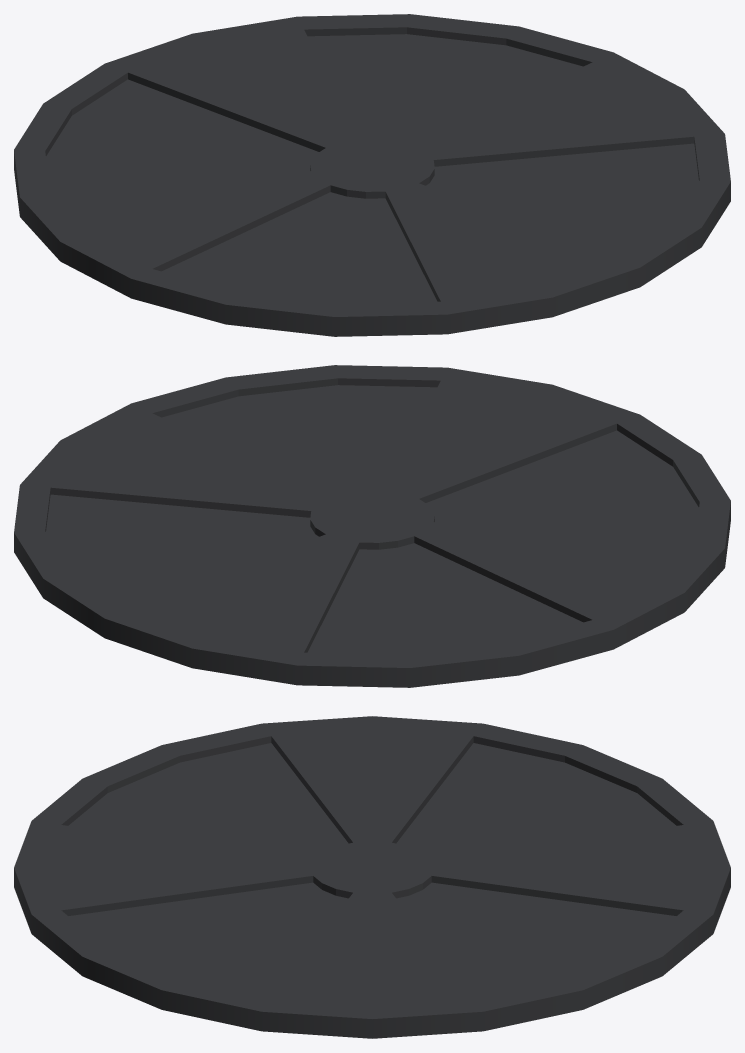
File: Manhole.fbx
3 renders of one model, top to bottom at view 1: azimuth 30°, elevation 25°; view 2: azimuth 150°, elevation 25°; view 3: azimuth 270°, elevation 25°, orthographic.
Visible parts, largest first — view 1: pCylinder1; view 2: pCylinder1; view 3: pCylinder1.
Part boxes in pixels (x1=…): pCylinder1: x1=14, y1=14, x2=730, y2=336; pCylinder1: x1=14, y1=365, x2=730, y2=687; pCylinder1: x1=14, y1=716, x2=730, y2=1038.
Size of the model in its own units: 0.02 by 0.000605 by 0.02.
1 material, 1 textured.
